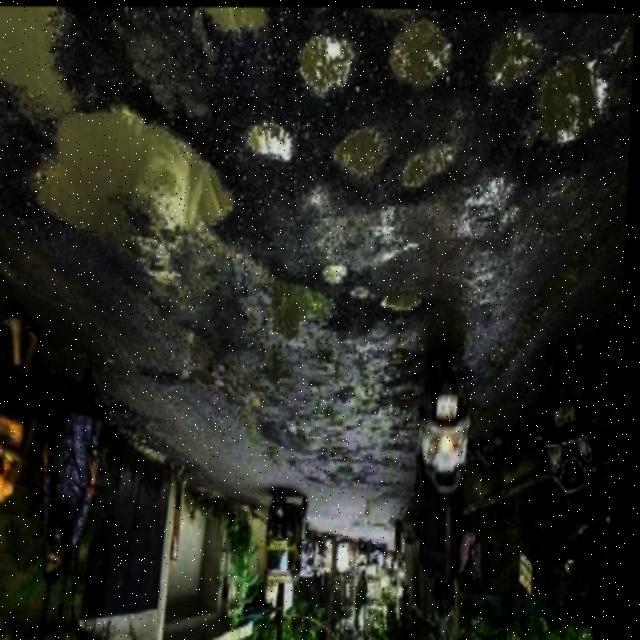pothole: (22, 90, 246, 288), (0, 4, 81, 115), (532, 47, 616, 151), (386, 9, 458, 95), (271, 271, 342, 342), (482, 18, 546, 96), (296, 27, 360, 103), (330, 120, 396, 184), (399, 138, 458, 194), (185, 5, 272, 42), (246, 114, 299, 164), (344, 6, 432, 21), (382, 288, 428, 316), (323, 253, 354, 290)
